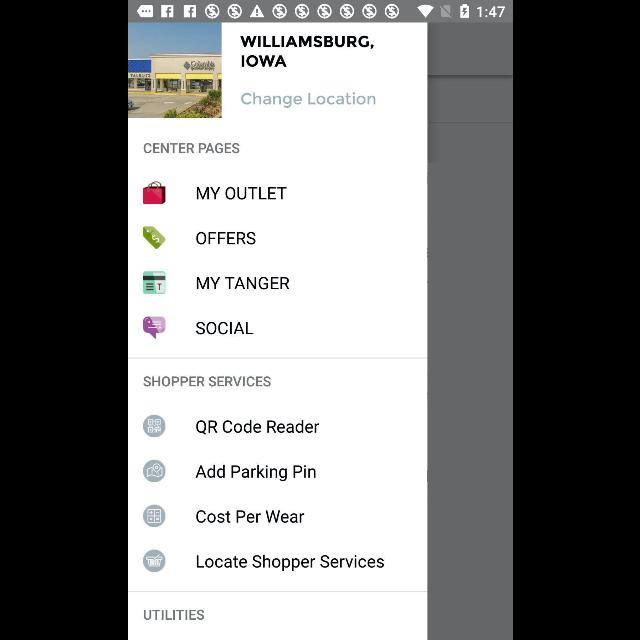icon: (142, 227, 166, 250), (142, 316, 166, 339), (142, 272, 166, 294), (142, 460, 166, 482)
image: (127, 22, 220, 118), (142, 414, 166, 438), (142, 504, 166, 528), (142, 182, 166, 204), (142, 550, 166, 572)
panel: (128, 22, 426, 640)
text: (240, 35, 372, 67), (196, 554, 384, 572), (240, 92, 376, 108), (195, 464, 315, 482), (195, 419, 319, 435), (196, 510, 304, 524), (142, 377, 270, 388), (195, 276, 288, 290), (143, 142, 239, 154), (196, 188, 286, 200), (196, 232, 254, 244), (195, 322, 253, 334), (142, 610, 204, 620)
uppertaskbar: (128, 1, 512, 23)
